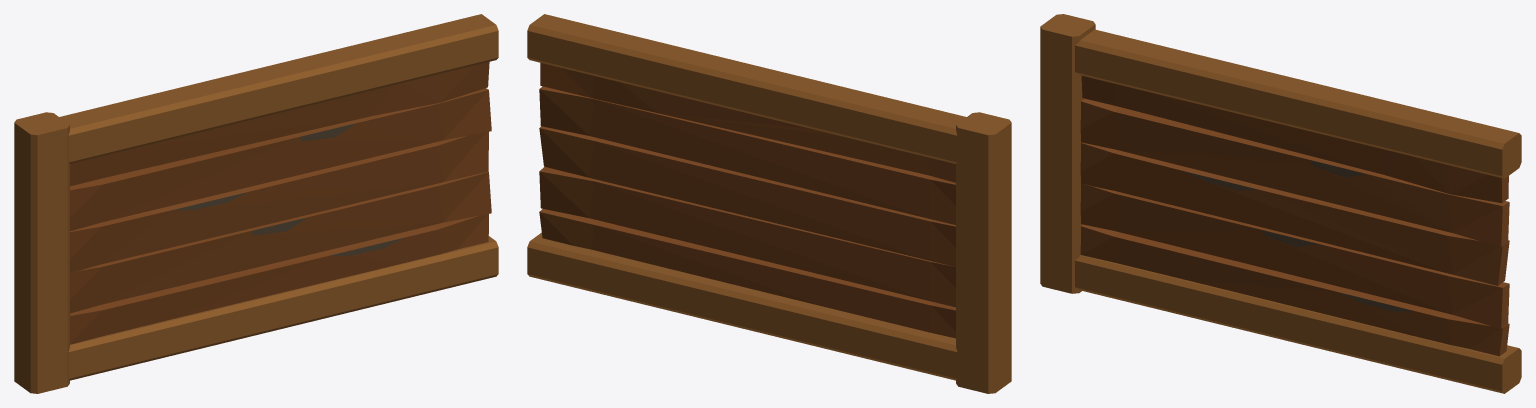
File: BG_woodfence_05.fbx
3 views of the same model, side by side, from view 1: azimuth 30°, elevation 25°; view 2: azimuth 150°, elevation 25°; view 3: azimuth 330°, elevation 25° (orthographic).
Visible parts, largest first — view 1: BG_woodfence_05; view 2: BG_woodfence_05; view 3: BG_woodfence_05.
Boxes of the visible parts, box(x1,y1,x2,y2) form: BG_woodfence_05: box(14, 14, 498, 393); BG_woodfence_05: box(527, 14, 1011, 393); BG_woodfence_05: box(1040, 14, 1521, 393).
Size of the model in its own units: 41.52 by 22 by 3.3.
Materials: 1 (1 with a texture image).
